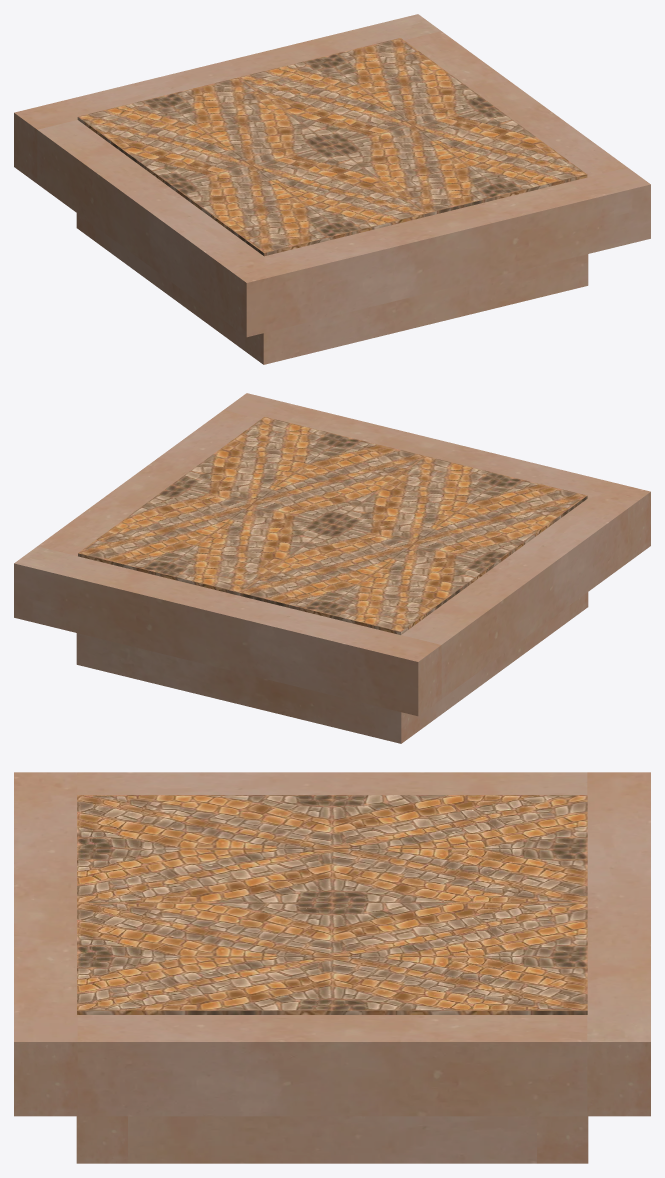
The picture shows the model from 3 angles, top to bottom: view 1: azimuth 30°, elevation 25°; view 2: azimuth 150°, elevation 25°; view 3: azimuth 270°, elevation 25°; orthographic projection. The views are drawn at different scales.
Visible parts, largest first — view 1: SM_BB_T4_Floor_Med_02_LOD0; view 2: SM_BB_T4_Floor_Med_02_LOD0; view 3: SM_BB_T4_Floor_Med_02_LOD0.
Part boxes in pixels (x1,y1,x2,y2): SM_BB_T4_Floor_Med_02_LOD0: [14, 14, 650, 364]; SM_BB_T4_Floor_Med_02_LOD0: [14, 393, 650, 743]; SM_BB_T4_Floor_Med_02_LOD0: [14, 772, 650, 1163].
Bounding box in the file's own units: 1.88 × 0.4946 × 1.87.
2 materials, 2 textured.
